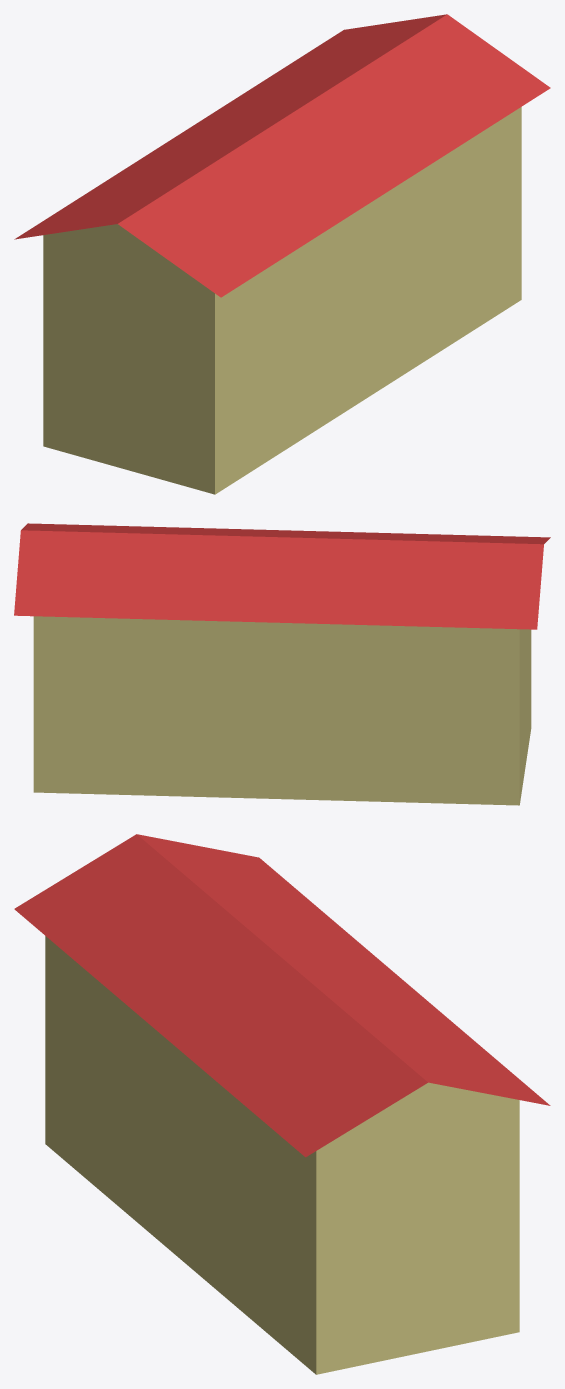
3 renders of one model, top to bottom at view 1: azimuth 30°, elevation 25°; view 2: azimuth 150°, elevation 25°; view 3: azimuth 270°, elevation 25°, orthographic. The views are drawn at different scales.
Bounding box in the file's own units: 15.2 × 11.5 × 6.61.
